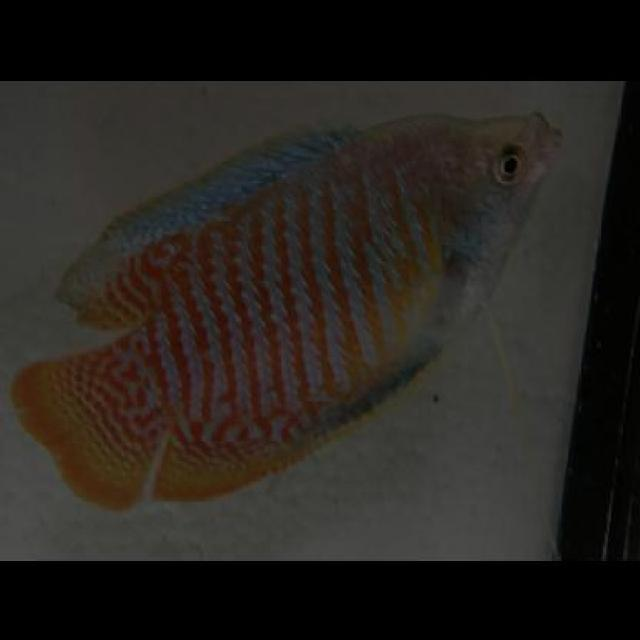Gourami: (14, 107, 561, 499)
